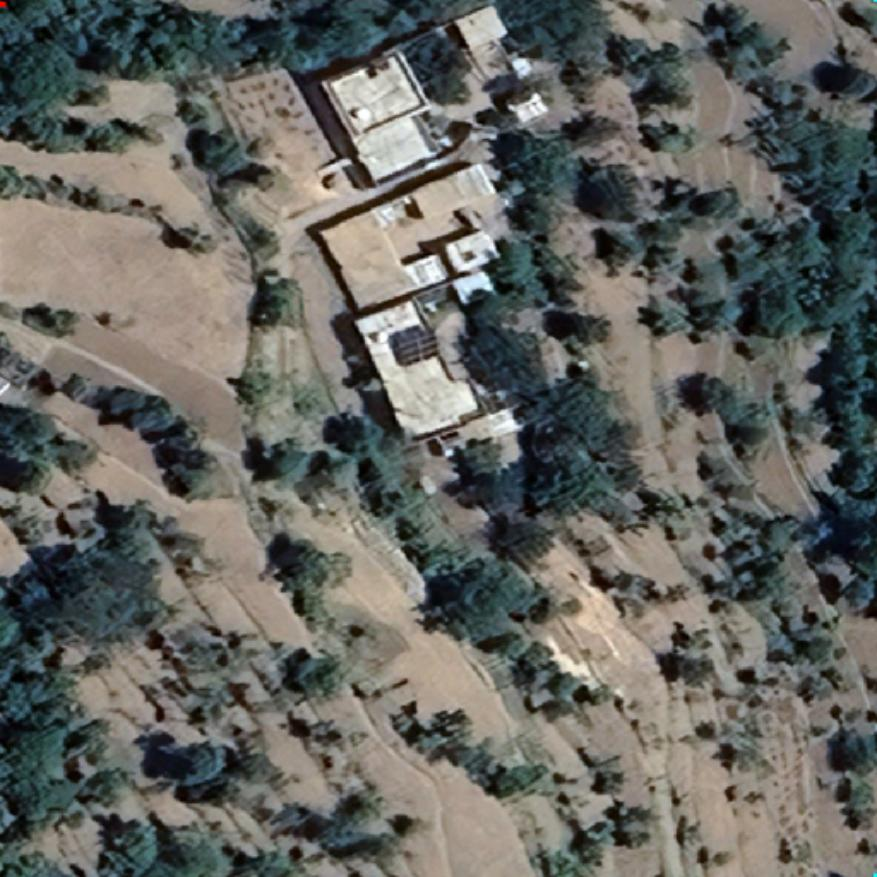Solarpanel: (389, 321, 444, 372)
